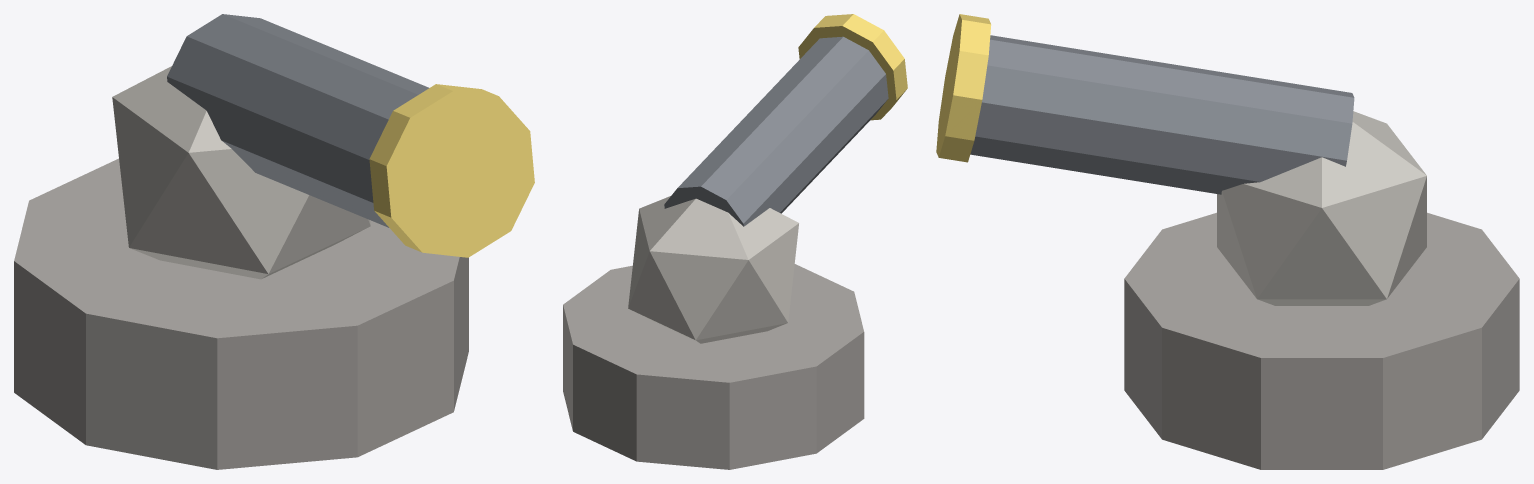
The model's file is PearlCannon.fbx.
The picture shows the model from 3 angles, left to right: view 1: azimuth 30°, elevation 25°; view 2: azimuth 150°, elevation 25°; view 3: azimuth 270°, elevation 25°; orthographic projection. The views are drawn at different scales.
Visible parts, largest first — view 1: Body, Part_Head; view 2: Body, Part_Head; view 3: Body, Part_Head.
Part boxes in pixels (left/top/right/bottom): Body: left=14, top=66, right=468, bottom=469; Part_Head: left=167, top=14, right=534, bottom=257; Body: left=563, top=196, right=864, bottom=469; Part_Head: left=664, top=14, right=907, bottom=226; Body: left=1124, top=111, right=1519, bottom=469; Part_Head: left=936, top=14, right=1354, bottom=194.
Bounding box in the file's own units: 1.52 × 1.66 × 2.36.
